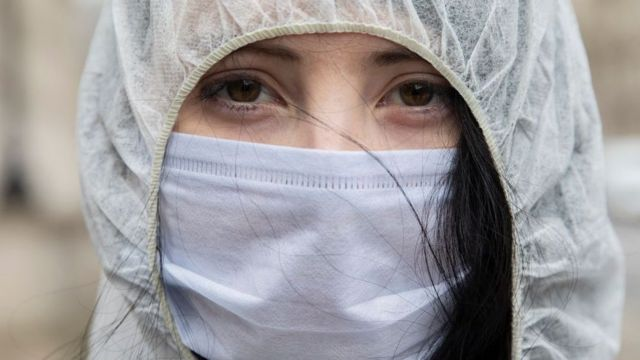with_mask: (156, 8, 552, 360)
